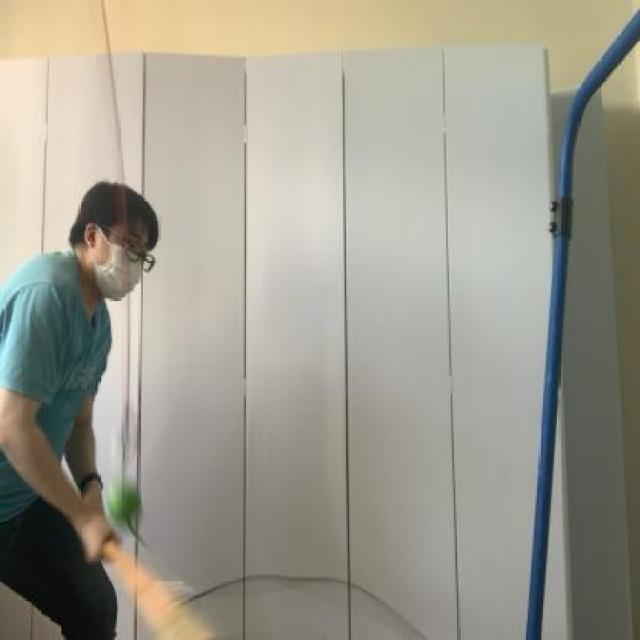baseball: (99, 462, 150, 532)
